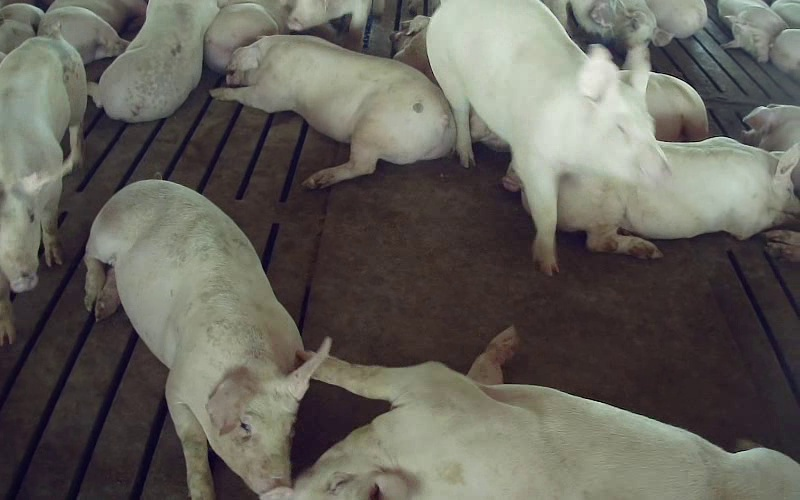pig: (264, 327, 799, 499), (85, 180, 329, 499), (211, 36, 455, 188), (558, 137, 799, 257), (0, 31, 86, 345), (38, 0, 146, 63)
